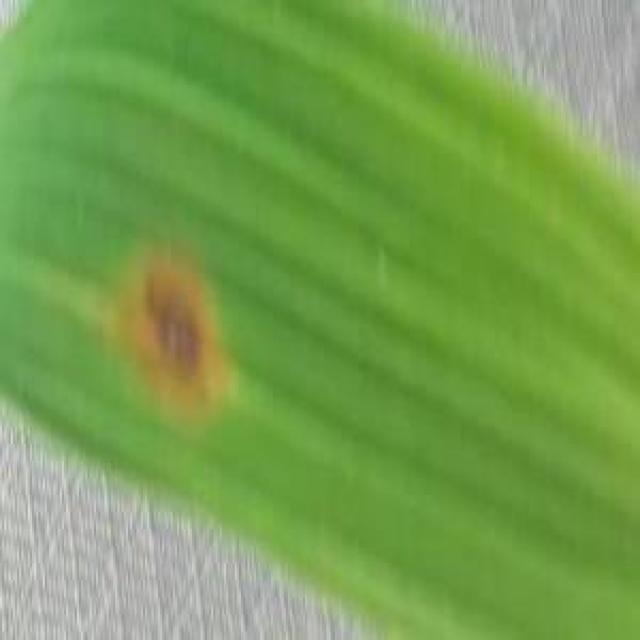Brown_Spot: (119, 266, 230, 408)
